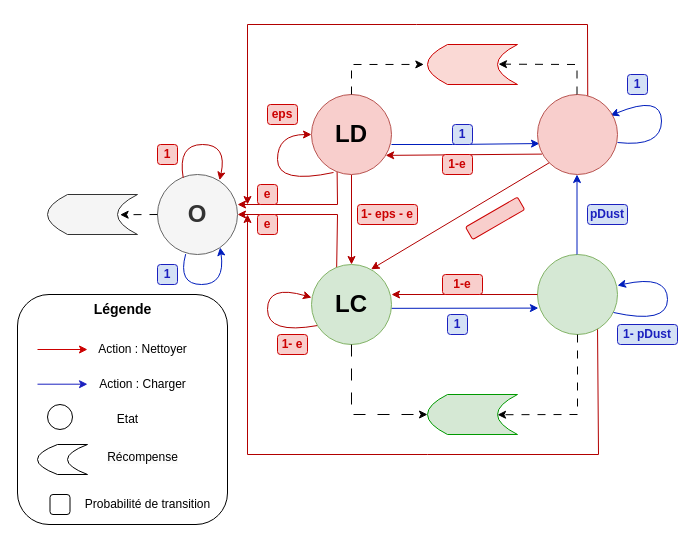
This 695x542 diagram has some shape labels left out. The centre of each missing label's shape, as x and y in pixels:
"1 - eps-e" goes at point 494,218.
"CC" goes at point 577,294.
"CD" goes at point 577,134.
"costcrash" goes at point 92,214.
"rc" goes at point 472,414.
"rd" goes at point 472,64.
